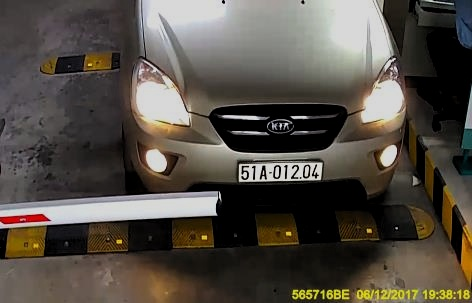plate: (235, 157, 326, 187)
